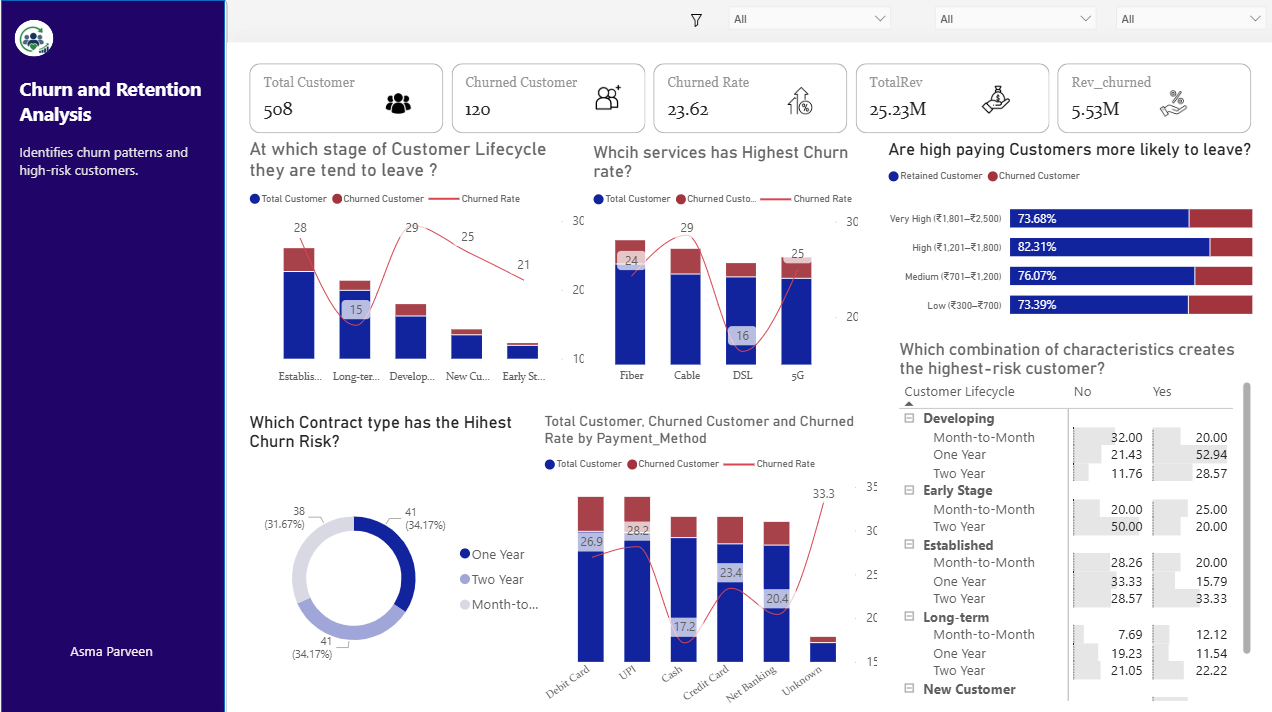

Layout of this report page (visuals, bound fields, positions):
{"tool":"powerbi","page":{"name":"Page 3","canvas":[1280,720],"ordinal":0},"visuals":[{"type":"shape","box":[0,0,230,1080],"z":0},{"type":"shape","box":[230,46.7,1050,673.3],"z":1000},{"type":"lineStackedColumnComboChart","title":"At which stage of Customer Lifecycle they are tend to leave ?","fields":{"Category":["Clean_Churn_Data.Customer Lifecycle"],"Y":["Measure.Total Customer","Measure.Churned Customer"],"Y2":["Measure.Churned Rate"]},"box":[247.1,142.9,344.3,252.9],"z":2000},{"type":"donutChart","title":"Which Contract type has the Hihest Churn Risk?","fields":{"Category":["Clean_Churn_Data.Contract_Type"],"Y":["Measure.Churned Customer"]},"box":[248,416,309,294],"z":3000},{"type":"hundredPercentStackedBarChart","title":"Are high paying Customers more likely to leave?","fields":{"Category":["Clean_Churn_Data.Monthly Charges Group"],"Y":["Measure.Retained Customer","Measure.Churned Customer"]},"box":[885.7,142.9,374.3,192.9],"z":4000},{"type":"lineStackedColumnComboChart","title":"Whcih services has Highest Churn rate?","fields":{"Category":["Clean_Churn_Data.Internet_Service"],"Y":["Measure.Total Customer","Measure.Churned Customer"],"Y2":["Measure.Churned Rate"]},"box":[591.4,145.7,274.3,250],"z":5000},{"type":"pivotTable","title":"Which combination of characteristics creates the highest-risk customer?","fields":{"Rows":["Clean_Churn_Data.Customer Lifecycle","Clean_Churn_Data.Contract_Type"],"Columns":["Clean_Churn_Data.Tech_Support"],"Values":["Measure.Churned Rate"]},"box":[898,343,362,367],"z":6000},{"type":"cardVisual","fields":{"Data":["Measure.Total Customer","Measure.Churned Customer","Measure.Churned Rate","Measure.TotalRev","Measure.Rev_churned"]},"box":[247.1,62.9,1012.9,80],"z":7000},{"type":"textbox","box":[17.8,74.4,196.7,191.1],"z":8000},{"type":"textbox","box":[16.7,641.7,196.7,38.3],"z":9000},{"type":"slicer","fields":{"Values":["Clean_Churn_Data.Gender"]},"box":[720.7,0,182.9,47.1],"z":10000},{"type":"slicer","fields":{"Values":["Clean_Churn_Data.City"]},"box":[1109.3,0,170.7,47.1],"z":11000},{"type":"slicer","fields":{"Values":["Clean_Churn_Data.State"]},"box":[927.1,0,182.1,47.1],"z":12000},{"type":"lineStackedColumnComboChart","fields":{"Y":["Measure.Total Customer","Measure.Churned Customer"],"Y2":["Measure.Churned Rate"],"Category":["Clean_Churn_Data.Payment_Method"]},"box":[542.9,415.7,342.9,304.3],"z":13000},{"type":"shape","box":[18,24,39,37],"z":14000},{"type":"image","box":[0,7.1,74.3,74.3],"z":15000},{"type":"image","box":[685,12,29,24],"z":16000},{"type":"image","box":[980,82,38,43],"z":17000},{"type":"image","box":[592,80,38,43],"z":18000},{"type":"image","box":[784,86,39,37],"z":19000},{"type":"image","box":[1157,86,38,43],"z":20000},{"type":"image","box":[382,86,38,43],"z":21000}]}

Visuals, with their boxes in screenshot pixels (x1, y1, x2, y2), scaled from the page's 1280x720 canvas onto the 1272x712 screenshot:
shape: (x1=0, y1=0, x2=229, y2=711)
shape: (x1=229, y1=46, x2=1271, y2=711)
"At which stage of Customer Lifecycle they are tend to leave ?" lineStackedColumnComboChart: (x1=246, y1=141, x2=588, y2=391)
"Which Contract type has the Hihest Churn Risk?" donutChart: (x1=246, y1=411, x2=554, y2=702)
"Are high paying Customers more likely to leave?" hundredPercentStackedBarChart: (x1=880, y1=141, x2=1252, y2=332)
"Whcih services has Highest Churn rate?" lineStackedColumnComboChart: (x1=588, y1=144, x2=860, y2=391)
"Which combination of characteristics creates the highest-risk customer?" pivotTable: (x1=892, y1=339, x2=1252, y2=702)
cardVisual - Measure.Total Customer x Measure.Churned Customer: (x1=246, y1=62, x2=1252, y2=141)
textbox: (x1=18, y1=74, x2=213, y2=263)
textbox: (x1=17, y1=635, x2=212, y2=672)
slicer - Clean_Churn_Data.Gender: (x1=716, y1=0, x2=898, y2=47)
slicer - Clean_Churn_Data.City: (x1=1102, y1=0, x2=1271, y2=47)
slicer - Clean_Churn_Data.State: (x1=921, y1=0, x2=1102, y2=47)
lineStackedColumnComboChart - Measure.Total Customer x Measure.Churned Customer: (x1=540, y1=411, x2=880, y2=711)
shape: (x1=18, y1=24, x2=57, y2=60)
image: (x1=0, y1=7, x2=74, y2=80)
image: (x1=681, y1=12, x2=710, y2=36)
image: (x1=974, y1=81, x2=1012, y2=124)
image: (x1=588, y1=79, x2=626, y2=122)
image: (x1=779, y1=85, x2=818, y2=122)
image: (x1=1150, y1=85, x2=1188, y2=128)
image: (x1=380, y1=85, x2=417, y2=128)
